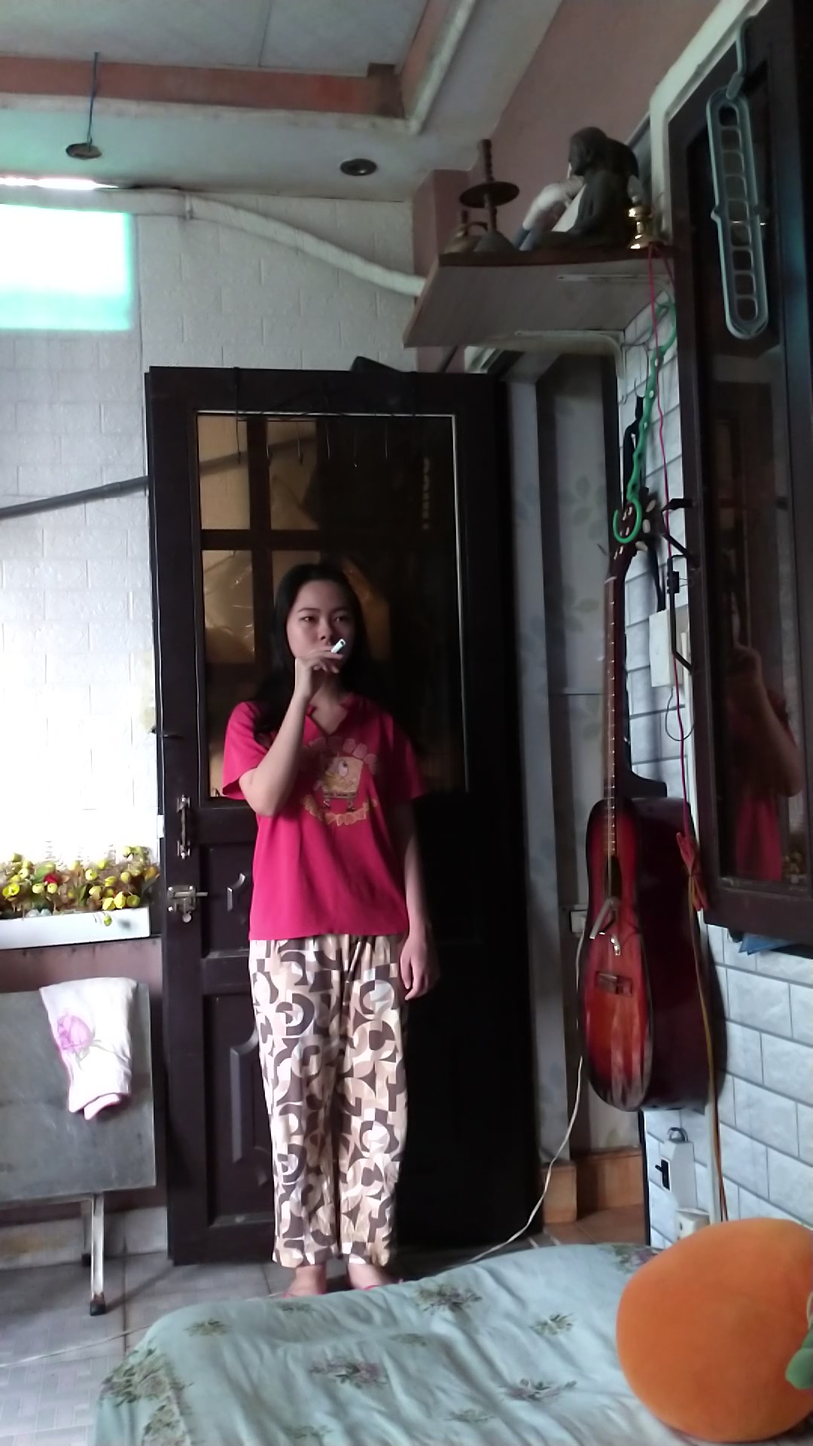cigarette: (330, 636, 349, 655)
person: (222, 526, 444, 1300)
